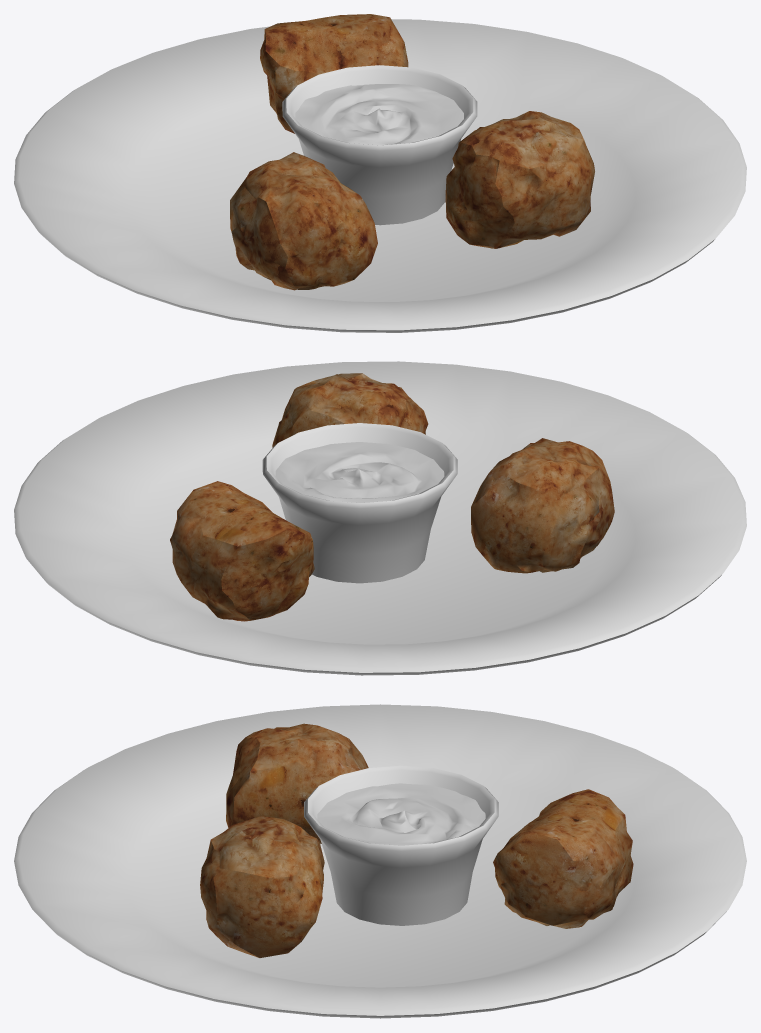
Rendered from Falafel_Separat.fbx.
The picture shows the model from 3 angles, top to bottom: view 1: azimuth 30°, elevation 25°; view 2: azimuth 150°, elevation 25°; view 3: azimuth 270°, elevation 25°; orthographic projection.
Parts seen in each view (by area): view 1: Falafel_Plate, Falafel_02, Falafel_01, Falafel_03; view 2: Falafel_Plate, Falafel_01, Falafel_03, Falafel_02; view 3: Falafel_Plate, Falafel_03, Falafel_02, Falafel_01.
Boxes of the visible parts, box(x1,y1,x2,y2) form: Falafel_Plate: box(14, 19, 746, 332); Falafel_02: box(445, 111, 594, 248); Falafel_01: box(230, 152, 377, 290); Falafel_03: box(260, 14, 408, 133); Falafel_Plate: box(14, 361, 746, 675); Falafel_01: box(471, 438, 614, 573); Falafel_03: box(170, 481, 314, 621); Falafel_02: box(272, 373, 428, 447); Falafel_Plate: box(14, 704, 746, 1018); Falafel_03: box(493, 789, 633, 928); Falafel_02: box(200, 816, 324, 957); Falafel_01: box(226, 723, 368, 843).
Bounding box in the file's own units: 27.95 × 5.44 × 27.95.
